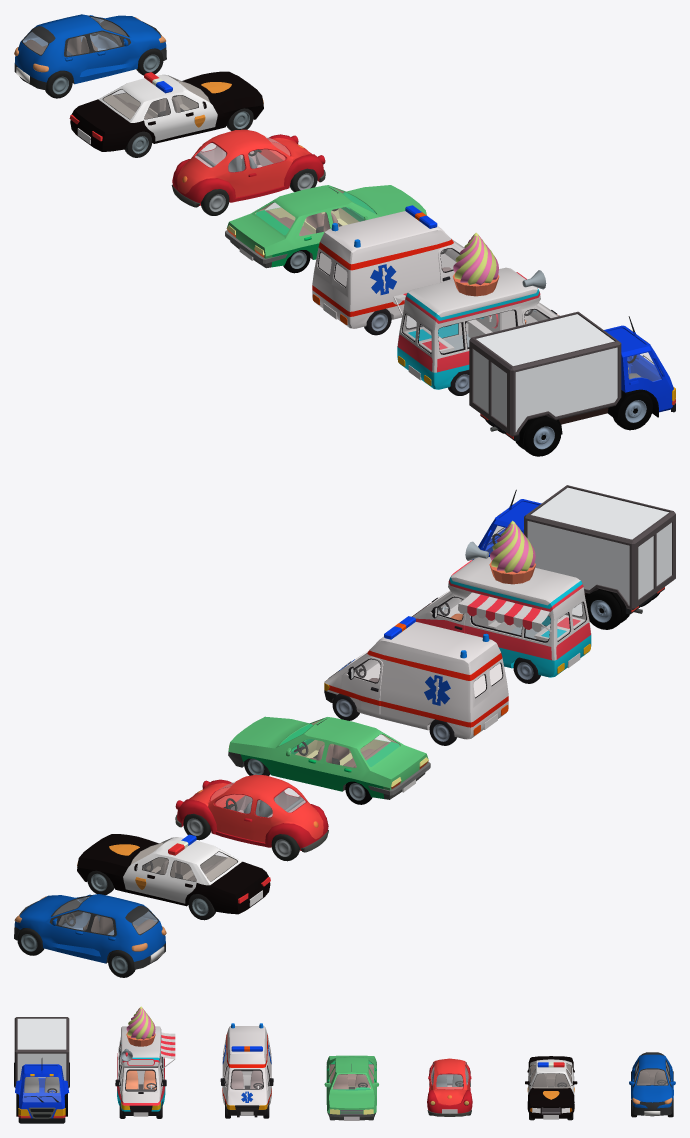
The model's file is low_poly_cars_pack.glb.
The picture shows the model from 3 angles, top to bottom: view 1: azimuth 30°, elevation 25°; view 2: azimuth 150°, elevation 25°; view 3: azimuth 270°, elevation 25°; orthographic projection. The views are drawn at different scales.
Parts seen in each view (by area): view 1: Transport1, Transport2, Transport3, Transport6, Transport7, Transport4, Transport5; view 2: Transport1, Transport3, Transport2, Transport4, Transport6, Transport7, Transport5; view 3: Transport1, Transport2, Transport3, Transport4, Transport6, Transport7, Transport5.
Boxes of the visible parts, x1,y1,x2,y2 form: Transport1: (469, 311, 675, 456); Transport2: (393, 232, 559, 395); Transport3: (312, 205, 464, 335); Transport6: (69, 71, 263, 157); Transport7: (14, 14, 166, 98); Transport4: (225, 185, 426, 273); Transport5: (171, 129, 325, 215); Transport1: (472, 485, 675, 629); Transport3: (324, 616, 508, 745); Transport2: (412, 520, 591, 683); Transport4: (228, 716, 430, 804); Transport6: (77, 834, 270, 920); Transport7: (14, 894, 166, 977); Transport5: (175, 774, 328, 861); Transport1: (14, 1017, 69, 1123); Transport2: (115, 1006, 175, 1118); Transport3: (220, 1023, 273, 1118); Transport4: (324, 1055, 378, 1120); Transport6: (525, 1056, 577, 1120); Transport7: (629, 1052, 675, 1117); Transport5: (427, 1058, 472, 1116).
Size of what is drawn, in the model's own units: 3.15 by 2.5 by 16.54.
Materials: 2 (2 with a texture image).
